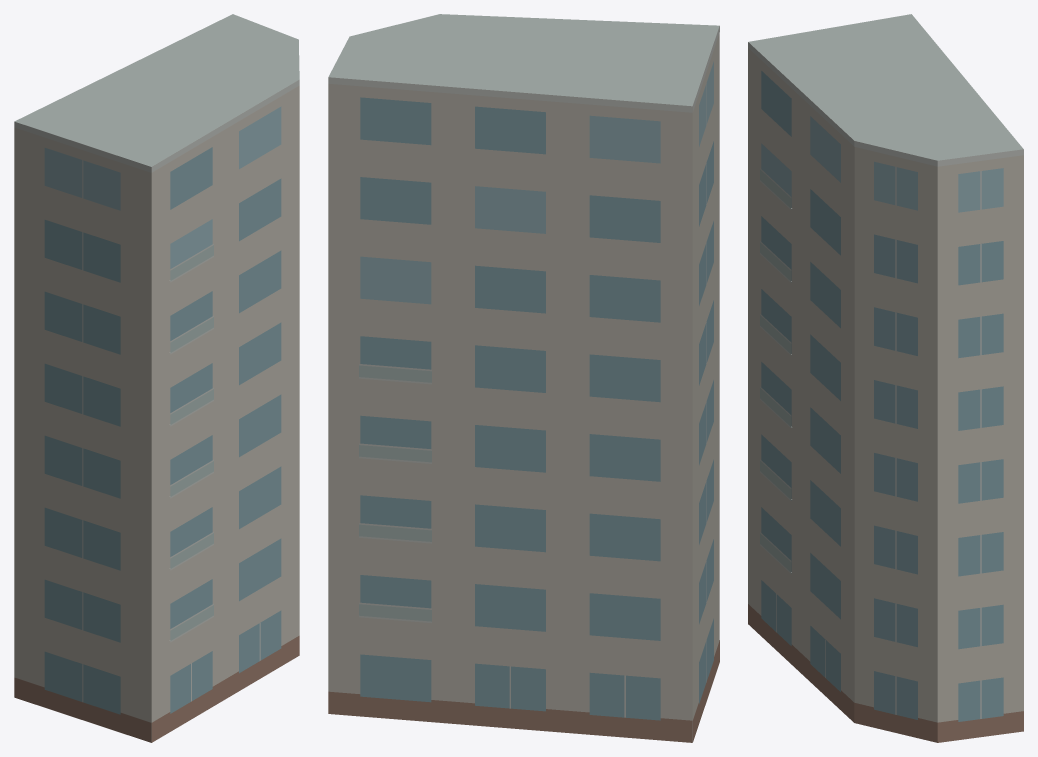
File: survey-upis-32970635.glb
3 views of the same model, side by side, from view 1: azimuth 30°, elevation 25°; view 2: azimuth 150°, elevation 25°; view 3: azimuth 270°, elevation 25° (orthographic). The views are drawn at different scales.
Parts seen in each view (by area): view 1: survey-upis-32970635.tmp; view 2: survey-upis-32970635.tmp; view 3: survey-upis-32970635.tmp.
Part boxes in pixels (box(x1,y1,x2,y2)): survey-upis-32970635.tmp: box(14, 14, 299, 742); survey-upis-32970635.tmp: box(328, 14, 719, 742); survey-upis-32970635.tmp: box(748, 14, 1023, 742).
Bounding box in the file's own units: 12.9 × 23.85 × 10.25.
